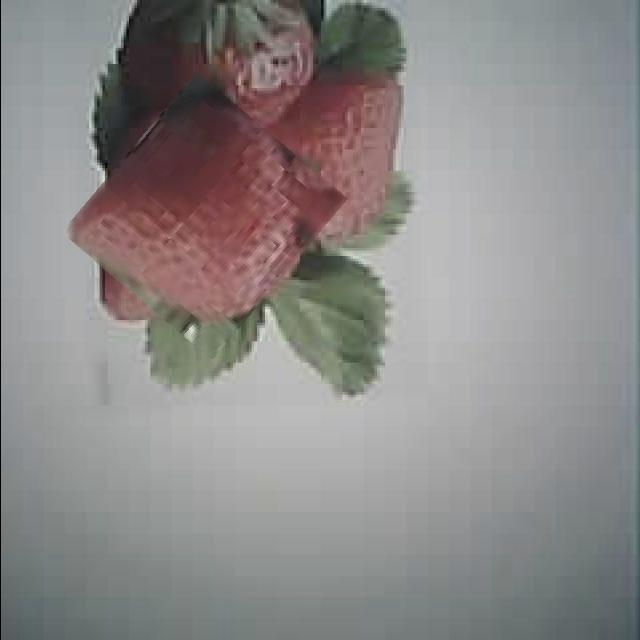strawberry: (82, 90, 324, 340)
